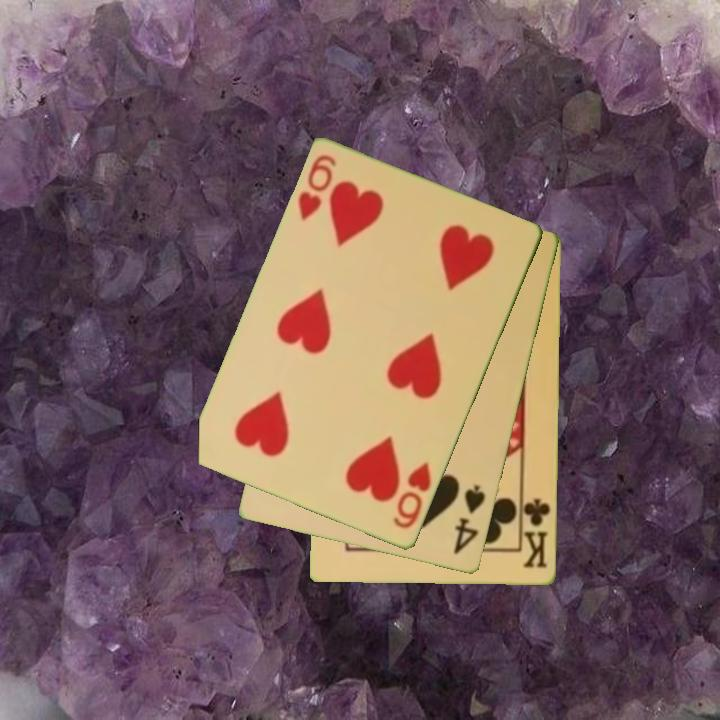4s: (450, 481, 489, 558)
6h: (294, 151, 339, 225), (390, 459, 435, 532)
Kc: (519, 491, 553, 572)
